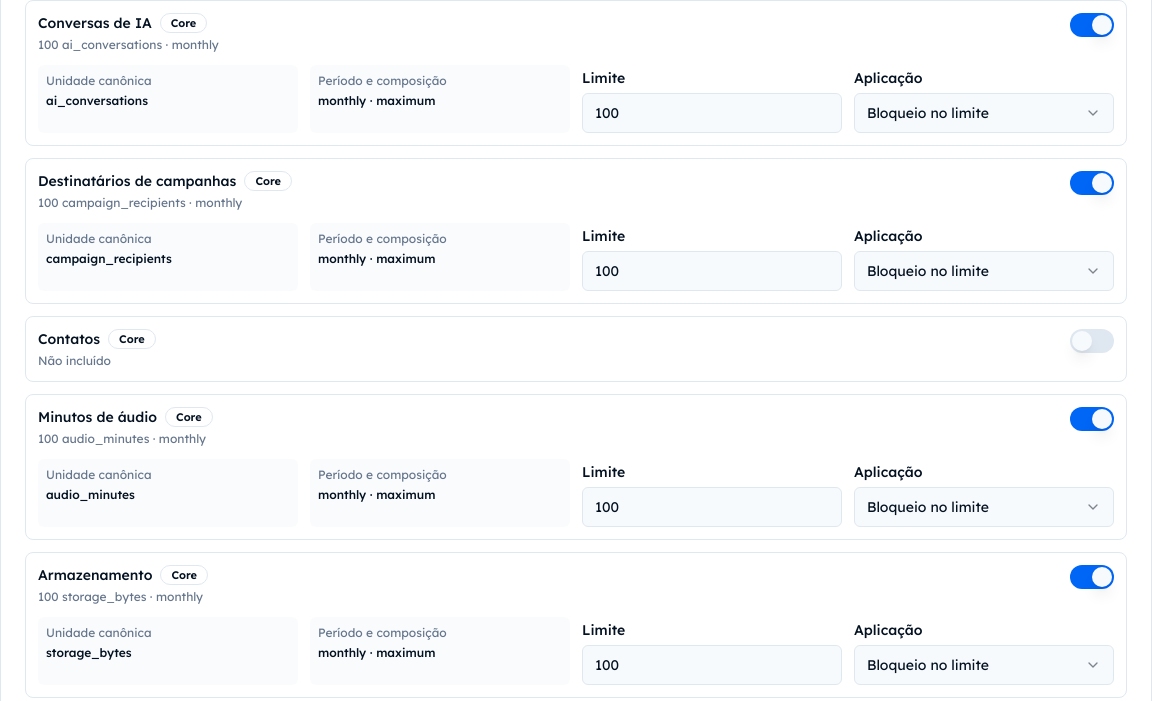
PlatformCommercialCatalogPanel › hydrates a real V2 policy without contacts and blocks an enabled contact without a finite limit
This screenshot has width=1152, height=701.
Later steps or results of the test are not shown.
(page scrolled)
Click the switch named "Incluir Contatos" at (1092, 341), box [1070, 329, 1114, 353]
(page scrolled)
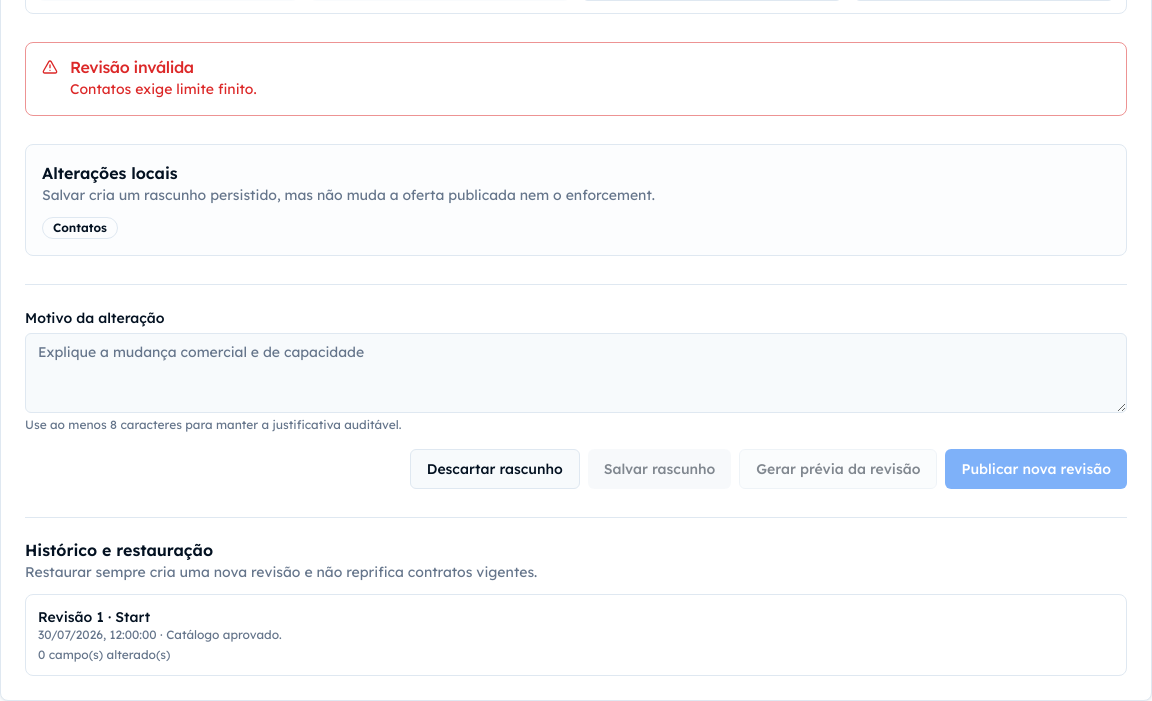
Result: the text "Contatos exige limite finito." is shown at [70, 80, 257, 98]
